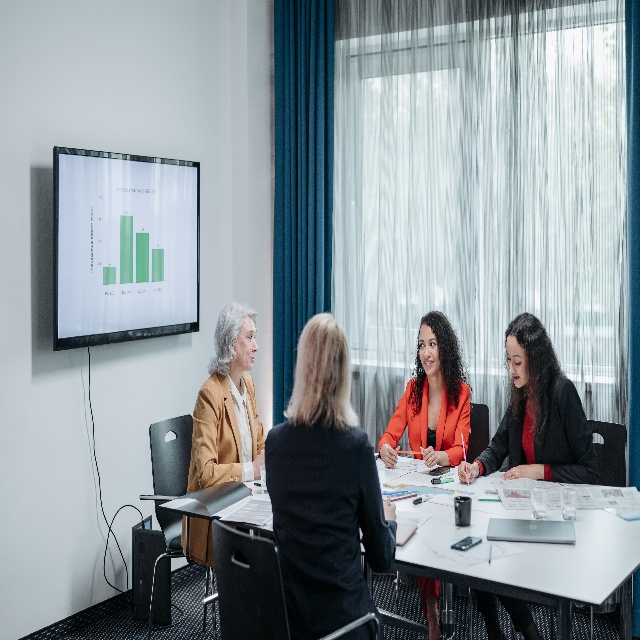Sin_guantes: (500, 463, 538, 481), (457, 460, 476, 484), (420, 446, 438, 469), (252, 449, 265, 478), (384, 446, 400, 468), (383, 495, 396, 521)
